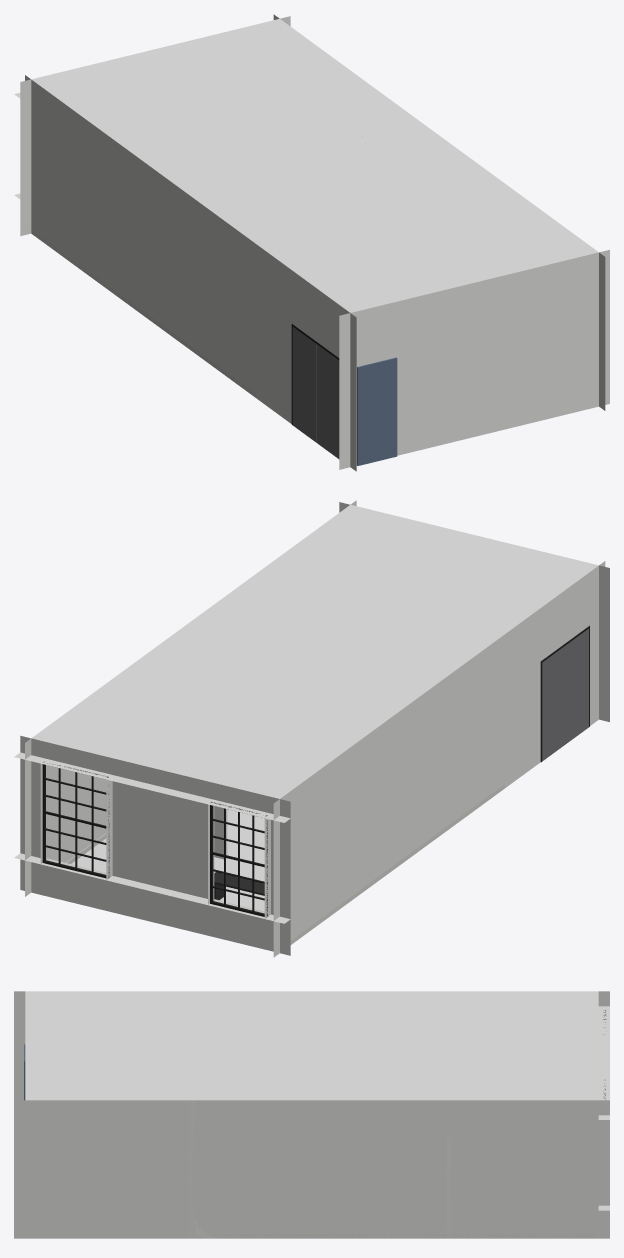
File: room_a.glb
3 views of the same model, one above another, from view 1: azimuth 30°, elevation 25°; view 2: azimuth 150°, elevation 25°; view 3: azimuth 270°, elevation 25° (orthographic). The views are drawn at different scales.
Parts seen in each view (by area): view 1: room; view 2: room; view 3: room.
Boxes of the visible parts, x1=… form: room: x1=14, y1=14, x2=609, y2=471; room: x1=14, y1=500, x2=609, y2=957; room: x1=14, y1=991, x2=609, y2=1238.
Size of the model in its own units: 6.18 by 3.37 by 13.12.
